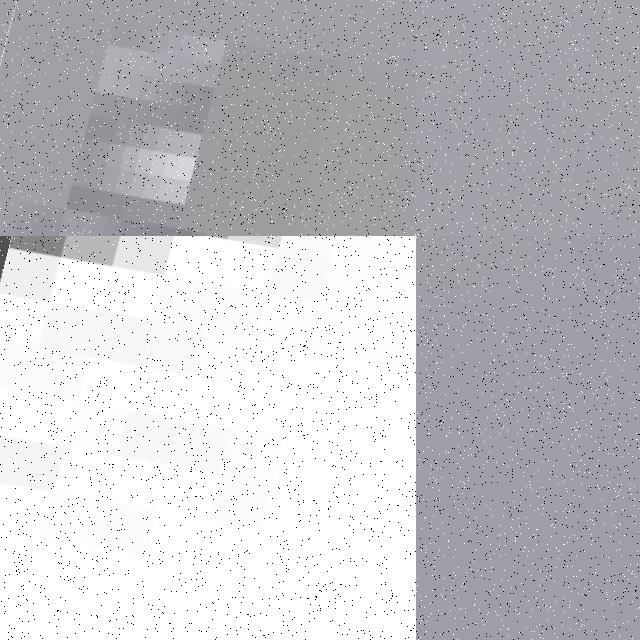0: (0, 0, 416, 236)
drone: (0, 236, 416, 640)
